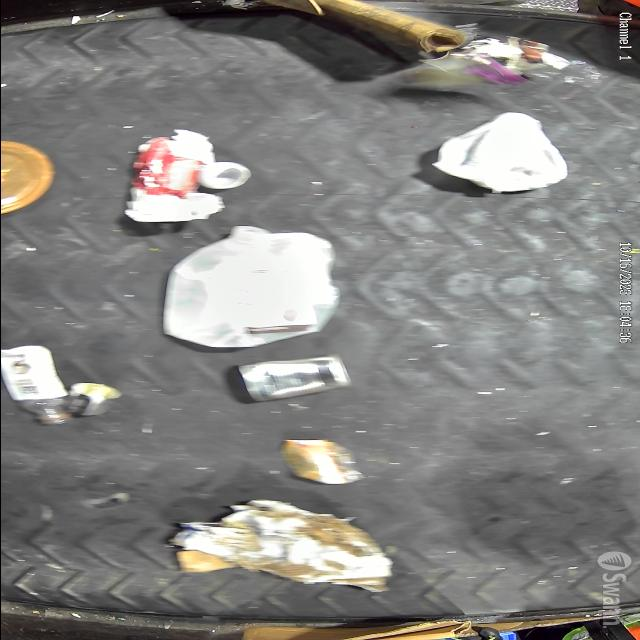can: (234, 356, 350, 402), (281, 440, 363, 484), (66, 382, 120, 417)
milk_jug: (162, 226, 338, 349), (430, 112, 568, 192)
